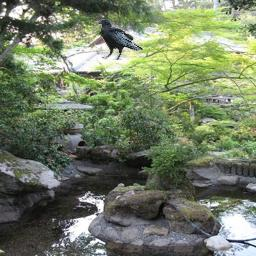Crow: (97, 19, 143, 60)
